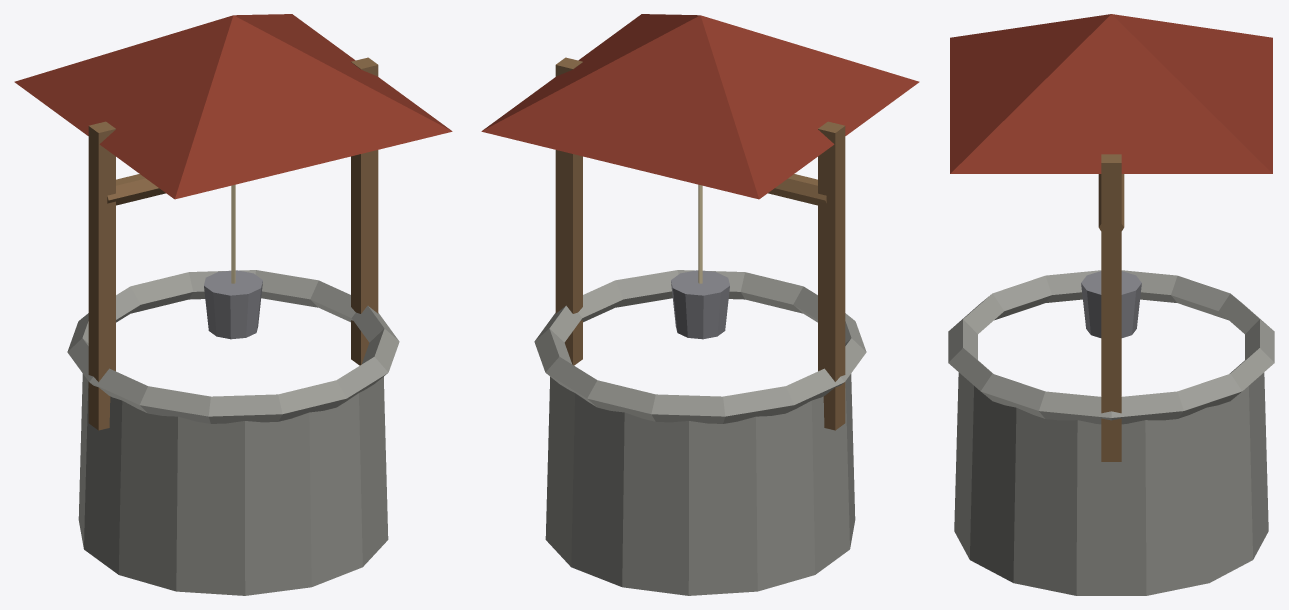
Rendered from farm_well.glb.
3 renders of one model, left to right at view 1: azimuth 30°, elevation 25°; view 2: azimuth 150°, elevation 25°; view 3: azimuth 270°, elevation 25°, orthographic.
Visible parts, largest first — view 1: wall_well_stone, roof_well_roof, posts_well_wood, bucket_well_bucket, crank_well_wood; view 2: wall_well_stone, roof_well_roof, posts_well_wood, bucket_well_bucket, crank_well_wood; view 3: wall_well_stone, roof_well_roof, posts_well_wood, bucket_well_bucket, crank_well_wood.
Boxes of the visible parts, x1,y1,x2,y2 form: wall_well_stone: (67, 270, 399, 595); roof_well_roof: (14, 14, 452, 199); posts_well_wood: (88, 57, 378, 430); bucket_well_bucket: (204, 270, 262, 339); crank_well_wood: (107, 174, 165, 205); wall_well_stone: (534, 270, 866, 595); roof_well_roof: (481, 14, 919, 199); posts_well_wood: (555, 57, 845, 430); bucket_well_bucket: (671, 270, 729, 339); crank_well_wood: (768, 174, 826, 205); wall_well_stone: (948, 270, 1274, 595); roof_well_roof: (950, 14, 1272, 173); posts_well_wood: (1101, 154, 1121, 461); bucket_well_bucket: (1081, 271, 1141, 337); crank_well_wood: (1098, 174, 1124, 230).
Size of the model in its own units: 1.32 by 2.25 by 1.29.
